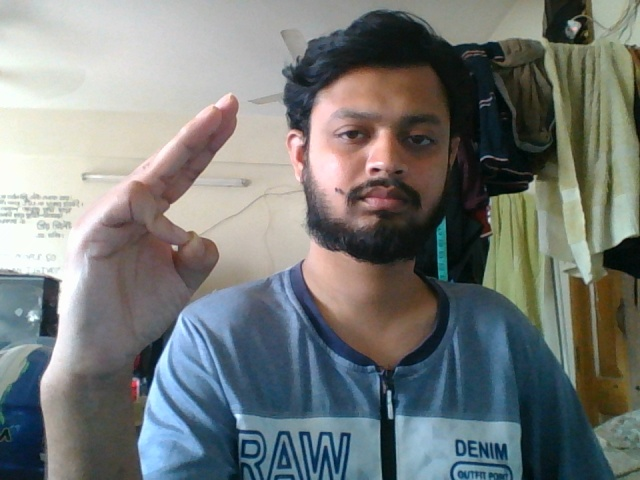ma: (55, 91, 250, 389)
